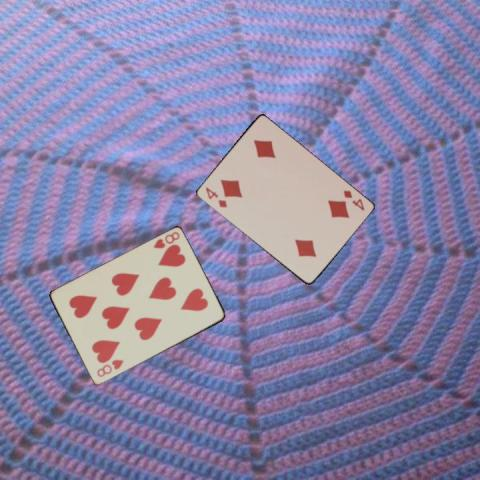4d: (202, 184, 228, 209), (340, 187, 365, 212)
8h: (94, 356, 126, 378), (150, 229, 181, 250)
